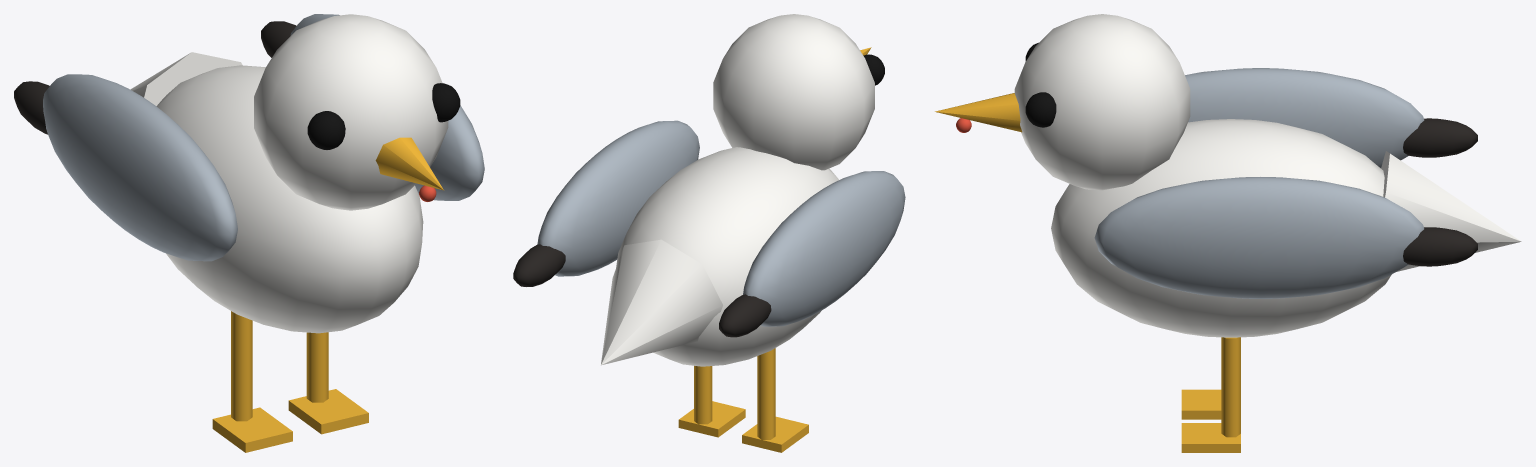
The model's file is marti.glb.
3 renders of one model, left to right at view 1: azimuth 30°, elevation 25°; view 2: azimuth 150°, elevation 25°; view 3: azimuth 270°, elevation 25°, orthographic. The views are drawn at different scales.
Visible parts, largest first — view 1: marti, kanatL, kanatR; view 2: marti, kanatL, kanatR; view 3: marti, kanatR, kanatL.
Part boxes in pixels (x1=…): marti: x1=130, y1=14, x2=460, y2=452; kanatL: x1=14, y1=74, x2=237, y2=261; kanatR: x1=261, y1=14, x2=484, y2=200; marti: x1=601, y1=14, x2=884, y2=452; kanatL: x1=719, y1=171, x2=905, y2=337; kanatR: x1=513, y1=120, x2=699, y2=286; marti: x1=935, y1=14, x2=1521, y2=452; kanatR: x1=1094, y1=177, x2=1477, y2=298; kanatL: x1=1185, y1=68, x2=1477, y2=168.
Bounding box in the file's own units: 0.332 × 0.45 × 0.5935.
